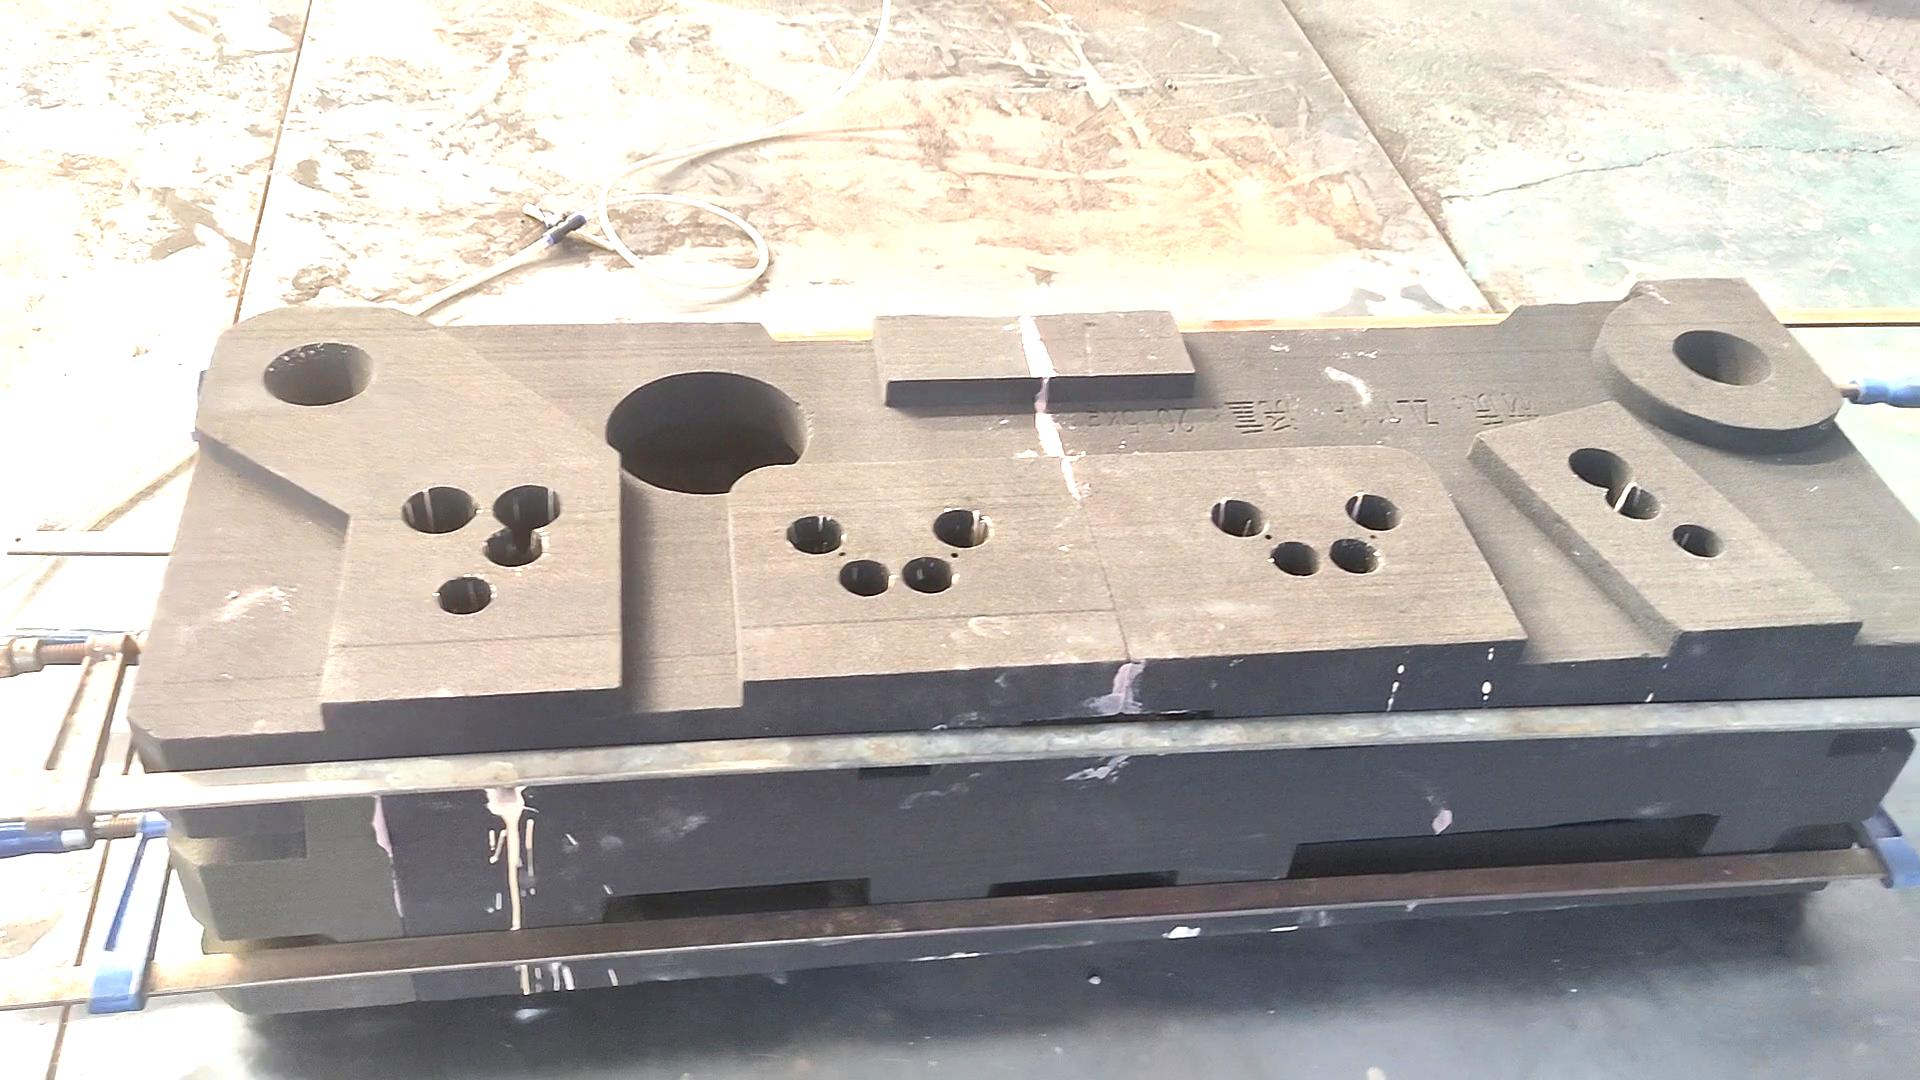pouring hole: (261, 342, 375, 406), (1671, 328, 1772, 386)
